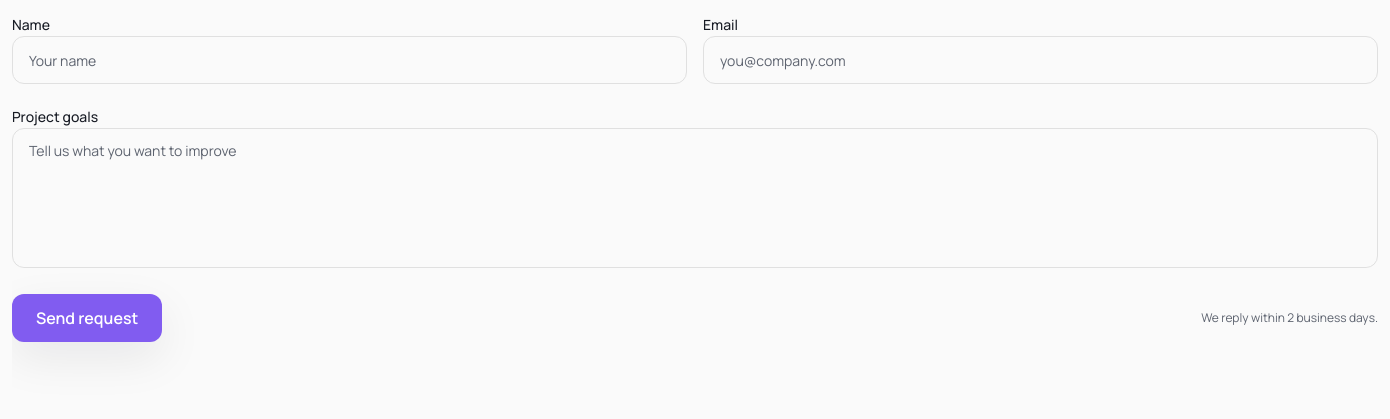
Test case: ContactForm › validates required fields
The image size is (1390, 419).
Step 1. Click the button "Send request" → click(87, 318), box [12,294,162,342]
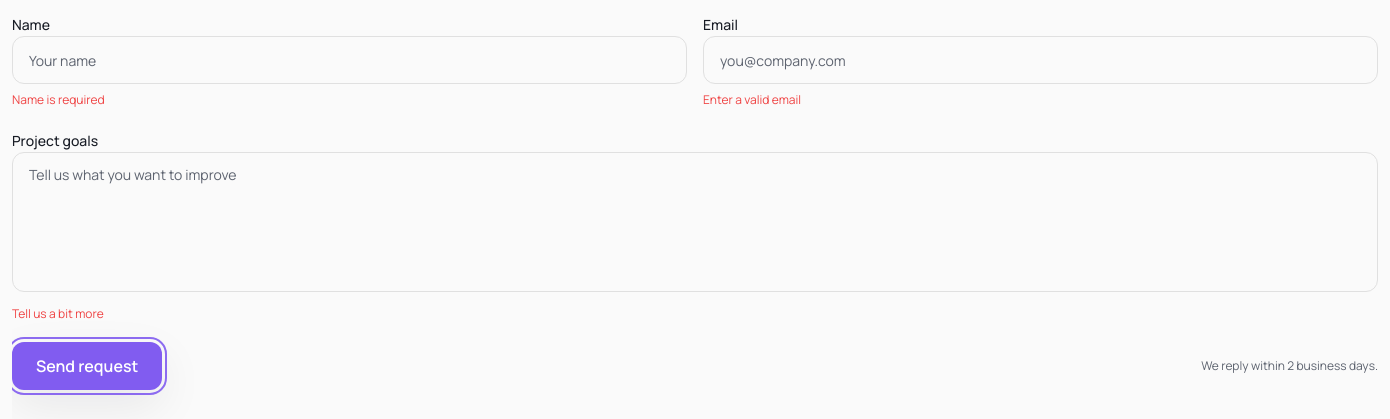
Expected: the text "Name is required" is shown, [12,91,104,108]
Expected: the text "Enter a valid email" is shown, [703,91,801,108]
Expected: the text "Tell us a bit more" is shown, [12,305,104,322]
